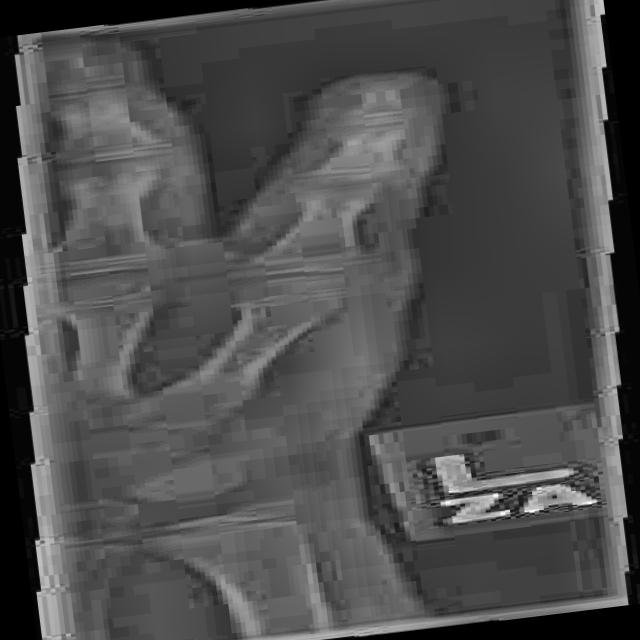fingers positive: (33, 158, 176, 218)
